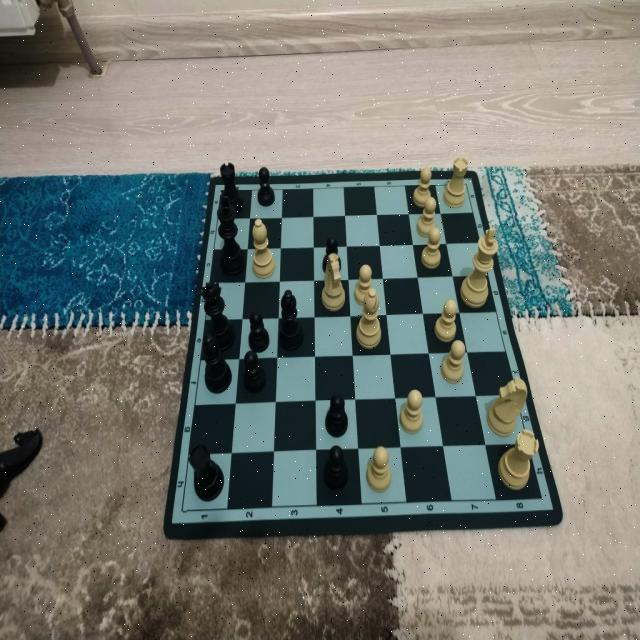corner: (536, 492, 548, 505), (461, 178, 471, 192), (177, 505, 187, 516), (218, 186, 224, 195)
